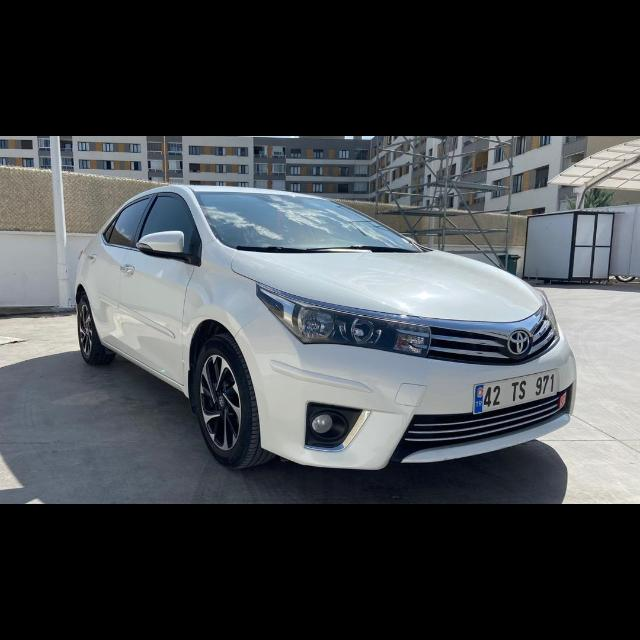Plaka: (473, 368, 557, 416)
